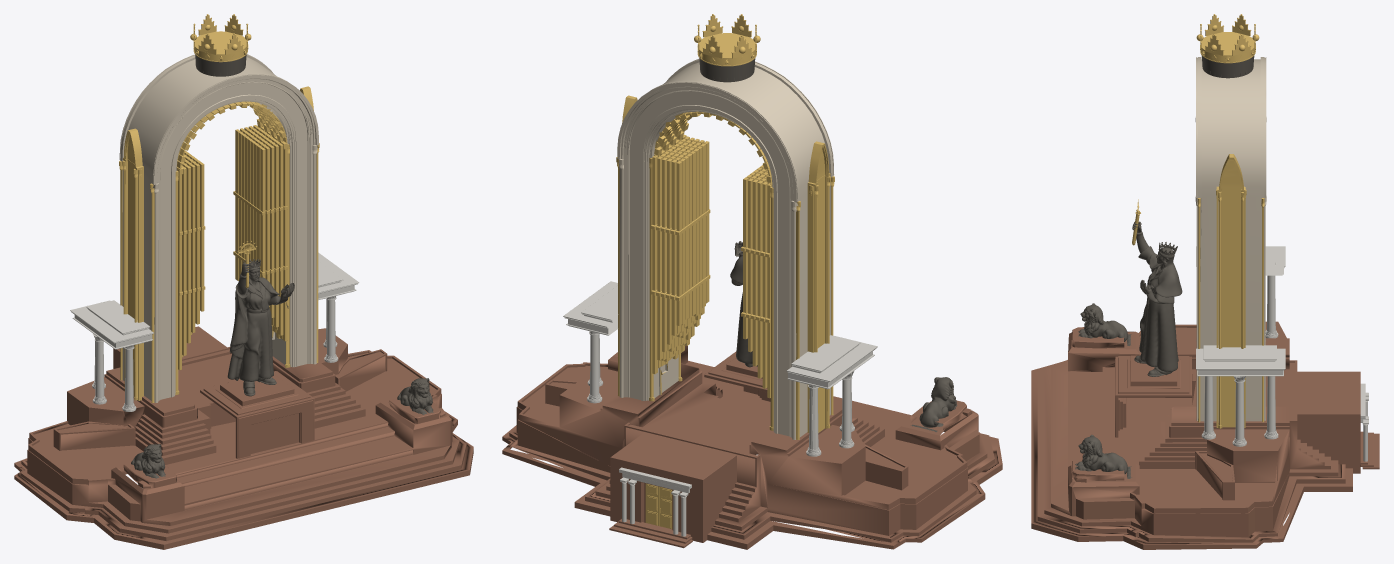
The model's file is ismoili_somoni_v4.glb.
3 renders of one model, left to right at view 1: azimuth 30°, elevation 25°; view 2: azimuth 150°, elevation 25°; view 3: azimuth 270°, elevation 25°, orthographic. The views are drawn at different scales.
Parts seen in each view (by area): view 1: Base_Platform_LOD0, Arch_LOD0, Arch_Lining_LOD0, Arch_Pilasters_LOD0, Statue_Pedestal_LOD0, Statue_LOD0, Colonnade_Entablatures_LOD0, Crown_LOD0, Colonnade_Columns_LOD0, Museum_Portal_LOD0, Lion_R_LOD0, Lion_L_LOD0 (+1 smaller); view 2: Base_Platform_LOD0, Arch_LOD0, Arch_Lining_LOD0, Arch_Pilasters_LOD0, Museum_Portal_LOD0, Colonnade_Entablatures_LOD0, Crown_LOD0, Colonnade_Columns_LOD0, Museum_Portal_Stone_LOD0, Statue_Pedestal_LOD0, Lion_L_LOD0, Museum_Portal_Steps_LOD0 (+3 smaller); view 3: Base_Platform_LOD0, Arch_LOD0, Arch_Pilasters_LOD0, Museum_Portal_LOD0, Statue_LOD0, Colonnade_Entablatures_LOD0, Statue_Pedestal_LOD0, Colonnade_Columns_LOD0, Crown_LOD0, Lion_R_LOD0, Lion_L_LOD0, Crown_Base_LOD0 (+2 smaller).
Part boxes in pixels (bbox=[...]): Base_Platform_LOD0: bbox=[14, 328, 473, 549]; Arch_LOD0: bbox=[119, 54, 318, 402]; Arch_Lining_LOD0: bbox=[176, 101, 287, 370]; Arch_Pilasters_LOD0: bbox=[119, 86, 319, 402]; Statue_Pedestal_LOD0: bbox=[200, 371, 314, 458]; Statue_LOD0: bbox=[227, 263, 294, 381]; Colonnade_Entablatures_LOD0: bbox=[70, 252, 359, 349]; Crown_LOD0: bbox=[190, 14, 251, 62]; Colonnade_Columns_LOD0: bbox=[92, 296, 338, 411]; Museum_Portal_LOD0: bbox=[113, 326, 229, 368]; Lion_R_LOD0: bbox=[397, 378, 433, 414]; Lion_L_LOD0: bbox=[131, 444, 165, 478]; Base_Platform_LOD0: bbox=[502, 345, 1002, 549]; Arch_LOD0: bbox=[617, 59, 834, 439]; Arch_Lining_LOD0: bbox=[651, 111, 772, 397]; Arch_Pilasters_LOD0: bbox=[616, 95, 834, 439]; Museum_Portal_LOD0: bbox=[610, 432, 736, 542]; Colonnade_Entablatures_LOD0: bbox=[563, 281, 877, 389]; Crown_LOD0: bbox=[694, 14, 760, 66]; Colonnade_Columns_LOD0: bbox=[587, 331, 854, 456]; Museum_Portal_Stone_LOD0: bbox=[619, 467, 691, 536]; Statue_Pedestal_LOD0: bbox=[704, 351, 770, 401]; Lion_L_LOD0: bbox=[911, 377, 957, 432]; Museum_Portal_Steps_LOD0: bbox=[609, 519, 692, 548]; Base_Platform_LOD0: bbox=[1031, 321, 1352, 549]; Arch_LOD0: bbox=[1195, 57, 1266, 421]; Arch_Pilasters_LOD0: bbox=[1197, 154, 1264, 428]; Museum_Portal_LOD0: bbox=[1297, 371, 1360, 473]; Statue_LOD0: bbox=[1132, 221, 1182, 371]; Colonnade_Entablatures_LOD0: bbox=[1196, 246, 1285, 376]; Statue_Pedestal_LOD0: bbox=[1115, 355, 1191, 437]; Colonnade_Columns_LOD0: bbox=[1201, 275, 1278, 446]; Crown_LOD0: bbox=[1196, 14, 1259, 63]; Lion_R_LOD0: bbox=[1075, 434, 1131, 478]; Lion_L_LOD0: bbox=[1078, 303, 1131, 345]; Crown_Base_LOD0: bbox=[1201, 55, 1254, 78].
Size of what is drawn, in the model's own units: 42.23 by 43.17 by 31.81.
